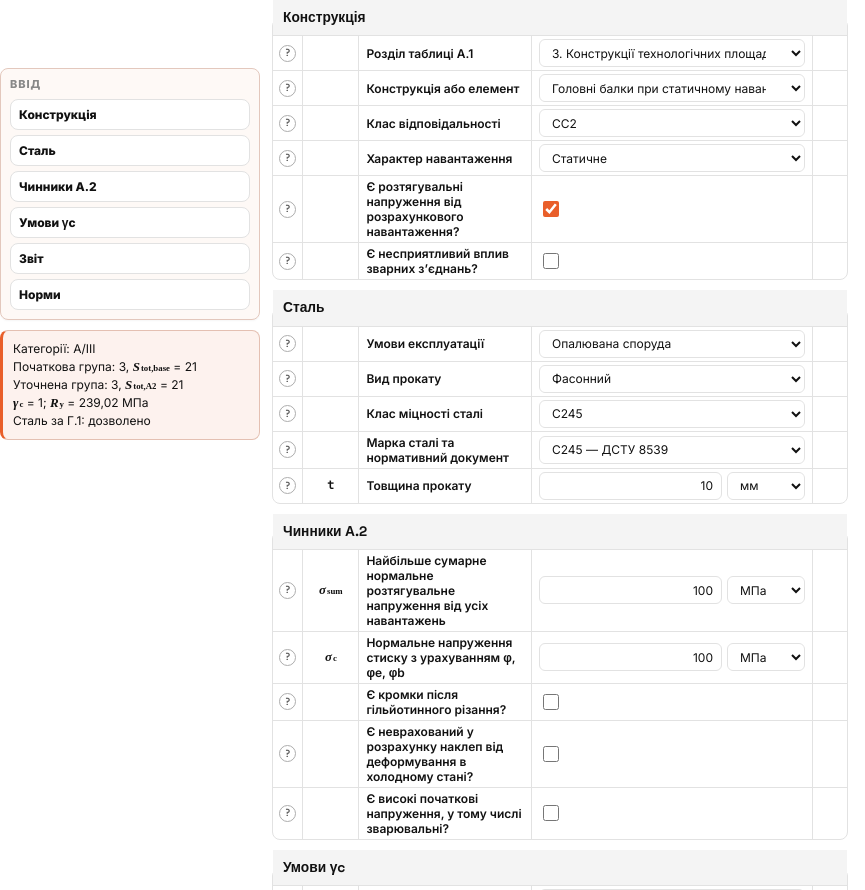
Test case: SteelStructureCategoryGroupCalculator › filters and resets the structure selector when section changes
Select "6. Конструкції фахверка" in the dropdown labelled "Розділ таблиці А.1" at (672,53), box top-left (539, 39), bottom-right (805, 67)
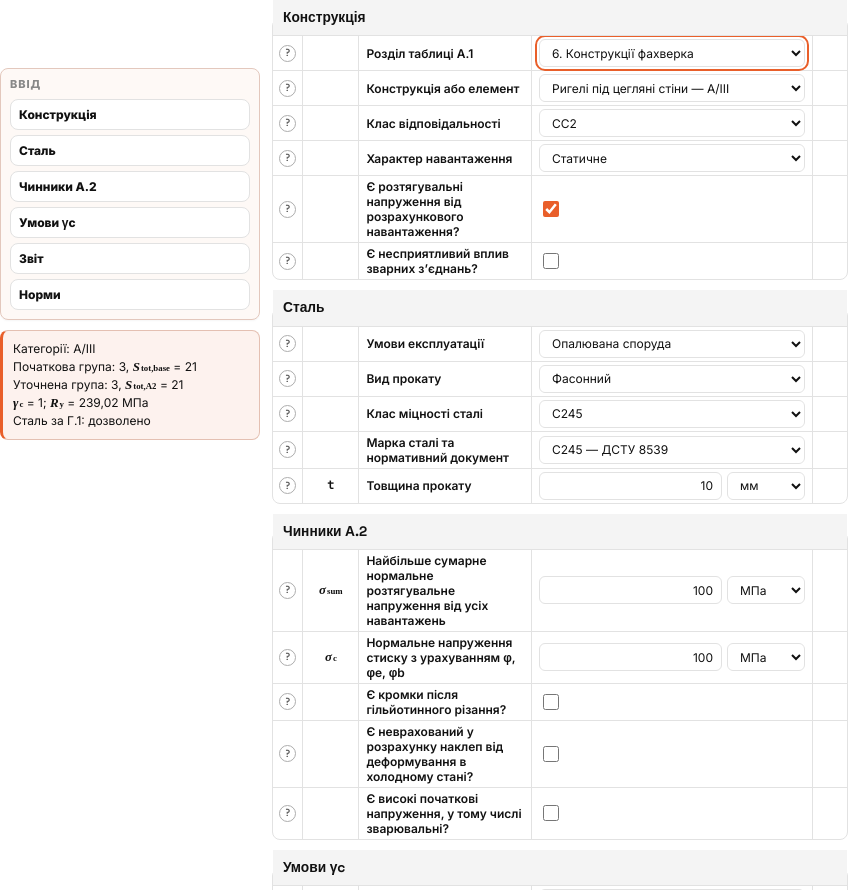
Now the dropdown labelled "Конструкція або елемент" shows "Ригелі під цегляні стіни — А/III", box top-left (539, 74), bottom-right (805, 102)
